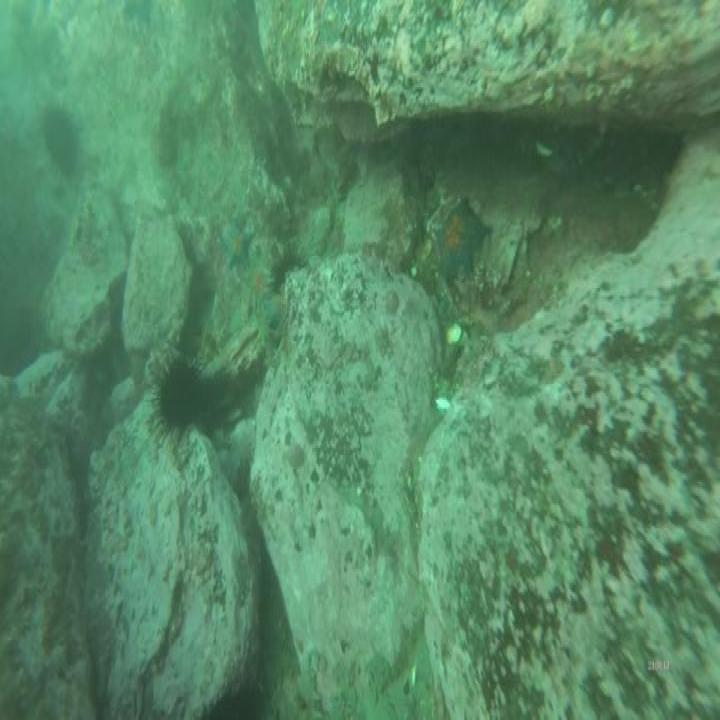echinus: (155, 354, 199, 446), (38, 98, 80, 180)
starfish: (436, 196, 486, 286), (217, 213, 255, 272)
